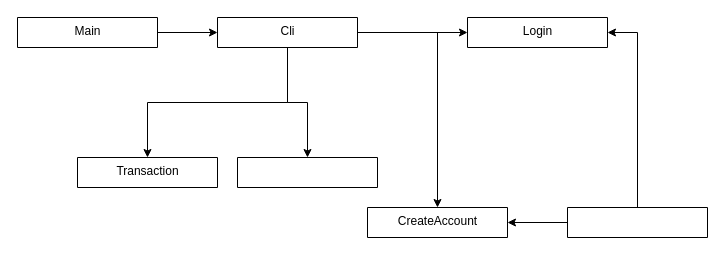
The diagram is 725 pixels wide and 255 high, and some of its shapes have lost their labels. The shapes that lost their labels are listed below. From the top down, each one's box as (x1, y1, x2, y2) in pixels, then its label:
(236, 156, 378, 188): UserAction
(566, 206, 708, 238): Account
